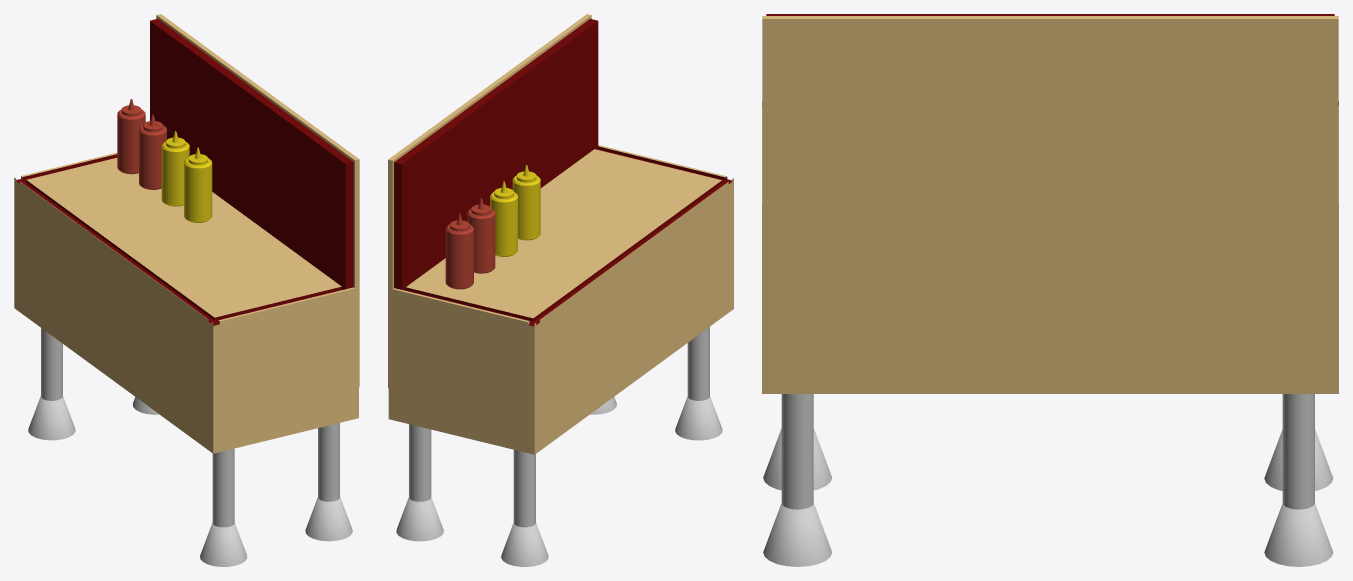
Rendered from Condiment_table.fbx.
3 views of the same model, side by side, from view 1: azimuth 30°, elevation 25°; view 2: azimuth 150°, elevation 25°; view 3: azimuth 270°, elevation 25° (orthographic). The views are drawn at different scales.
Parts seen in each view (by area): view 1: pCube14, pCube7, pCylinder14 (×4), pCube8, pCylinder13, pCylinder11, pCone10, pCone7, pCone11, pCylinder8; view 2: pCube14, pCube7, pCylinder14 (×4), pCube8, pCylinder8, pCylinder9, pCone8, pCone11, pCone7, pCylinder13; view 3: pCube8, pCube14, pCylinder11, pCylinder9, pCone8, pCone10, pCone11, pCone7, pCube7.
Boxes of the visible parts, x1=… form: pCube14: x1=14, y1=152, x2=358, y2=453; pCube7: x1=150, y1=19, x2=353, y2=289; pCylinder14 (×4): x1=117, y1=109, x2=212, y2=222; pCube8: x1=156, y1=14, x2=359, y2=387; pCylinder13: x1=212, y1=448, x2=234, y2=527; pCylinder11: x1=318, y1=423, x2=339, y2=501; pCone10: x1=305, y1=497, x2=352, y2=541; pCone7: x1=28, y1=396, x2=75, y2=440; pCone11: x1=200, y1=523, x2=247, y2=566; pCylinder8: x1=41, y1=328, x2=62, y2=400; pCube14: x1=388, y1=145, x2=733, y2=454; pCube7: x1=394, y1=19, x2=598, y2=290; pCylinder14 (×4): x1=445, y1=175, x2=540, y2=289; pCube8: x1=388, y1=14, x2=591, y2=388; pCylinder8: x1=513, y1=450, x2=535, y2=527; pCylinder9: x1=409, y1=424, x2=431, y2=501; pCone8: x1=396, y1=497, x2=443, y2=541; pCone11: x1=675, y1=396, x2=722, y2=440; pCone7: x1=501, y1=523, x2=548, y2=566; pCylinder13: x1=687, y1=327, x2=709, y2=400; pCube8: x1=762, y1=16, x2=1338, y2=349; pCube14: x1=762, y1=101, x2=1338, y2=393; pCylinder11: x1=781, y1=394, x2=813, y2=509; pCylinder9: x1=1282, y1=394, x2=1314, y2=509; pCone8: x1=1264, y1=503, x2=1333, y2=566; pCone10: x1=763, y1=503, x2=832, y2=566; pCone11: x1=763, y1=428, x2=832, y2=490; pCone7: x1=1264, y1=429, x2=1333, y2=490; pCube7: x1=766, y1=14, x2=1334, y2=15.
Bounding box in the file's own units: 1.2 × 2.9 × 2.78.
